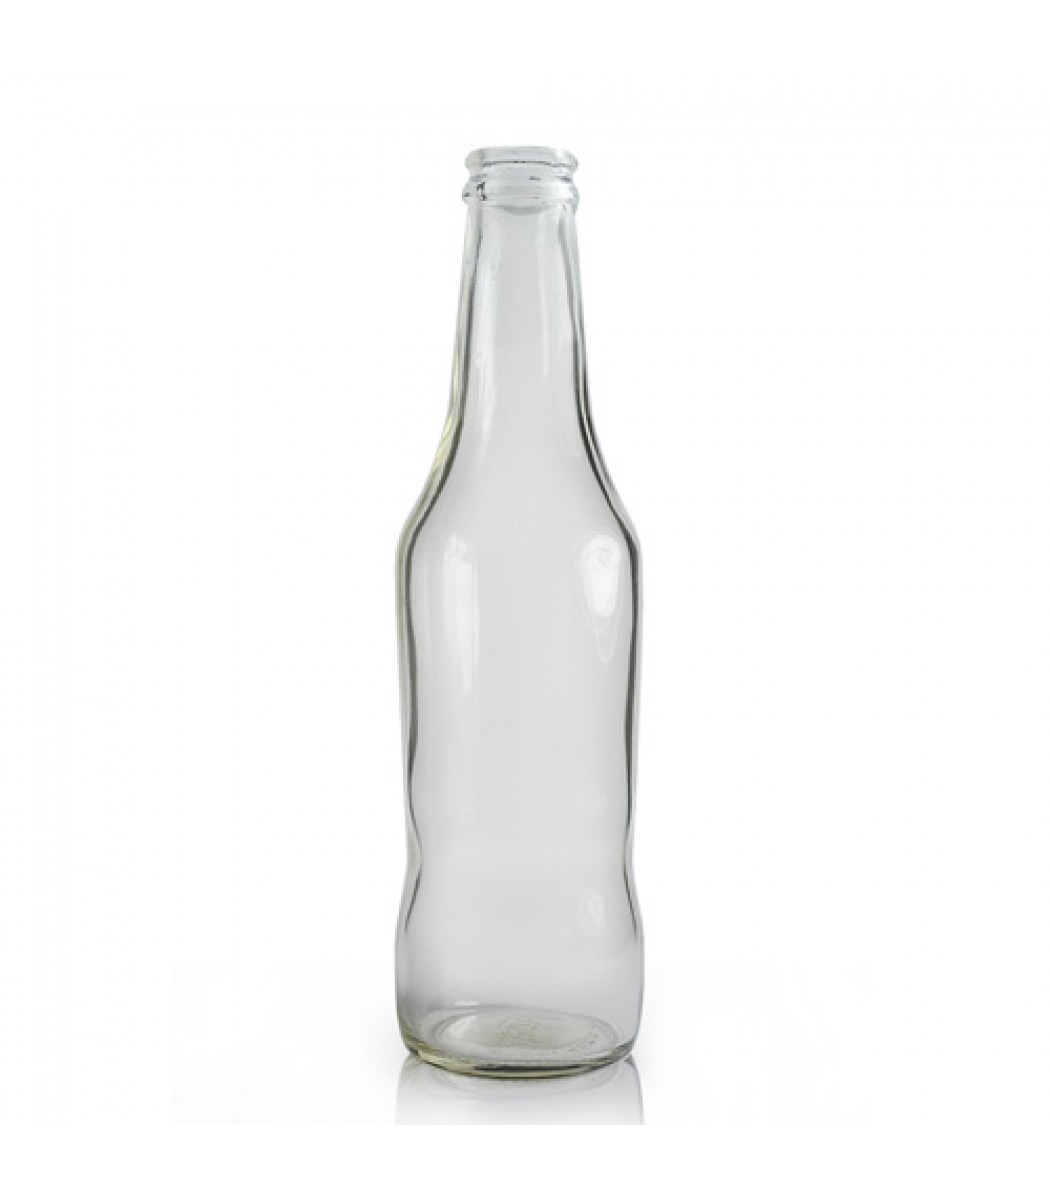container: (371, 137, 665, 1087)
